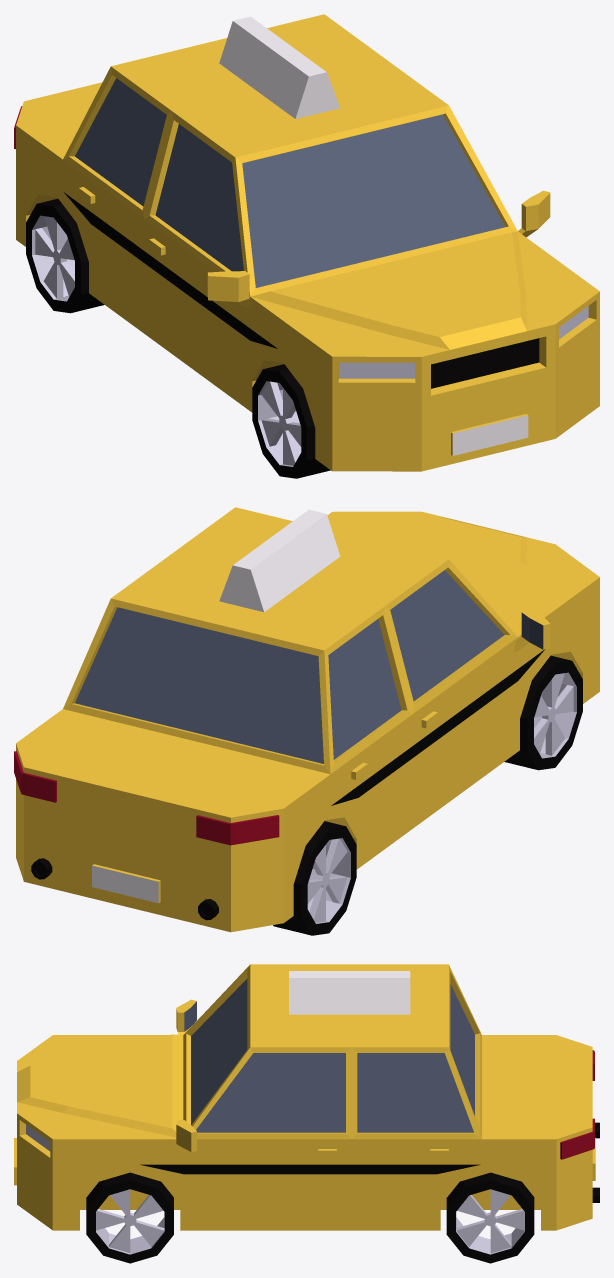
Rendered from mod-taxi.gltf.
The picture shows the model from 3 angles, top to bottom: view 1: azimuth 30°, elevation 25°; view 2: azimuth 150°, elevation 25°; view 3: azimuth 270°, elevation 25°; orthographic projection. The views are drawn at different scales.
Visible parts, largest first — view 1: Taxi, Taxi wheel front left; view 2: Taxi, Taxi wheel front left; view 3: Taxi, Taxi wheel front left.
Boxes of the visible parts, left/top/right/bottom form: Taxi: left=14, top=14, right=599, bottom=471; Taxi wheel front left: left=26, top=198, right=330, bottom=478; Taxi: left=14, top=507, right=599, bottom=932; Taxi wheel front left: left=273, top=655, right=582, bottom=935; Taxi: left=14, top=964, right=599, bottom=1230; Taxi wheel front left: left=86, top=1172, right=534, bottom=1263.
Bounding box in the file's own units: 2.48 × 2.04 × 4.61.
